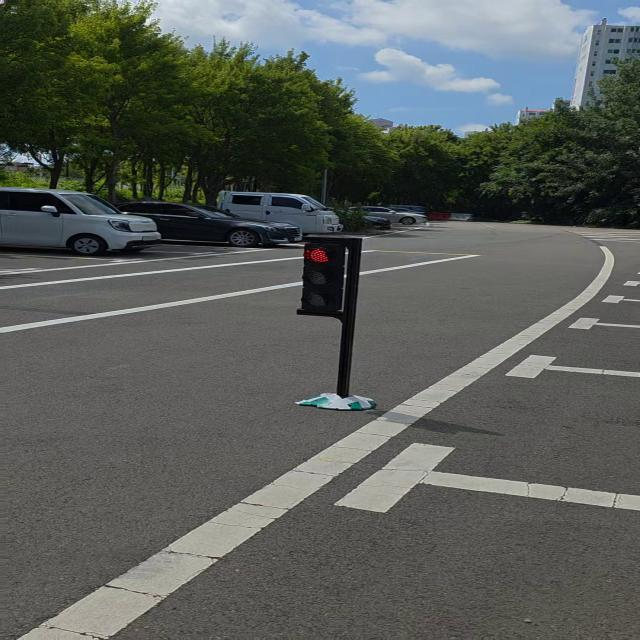red: (290, 235, 369, 318)
